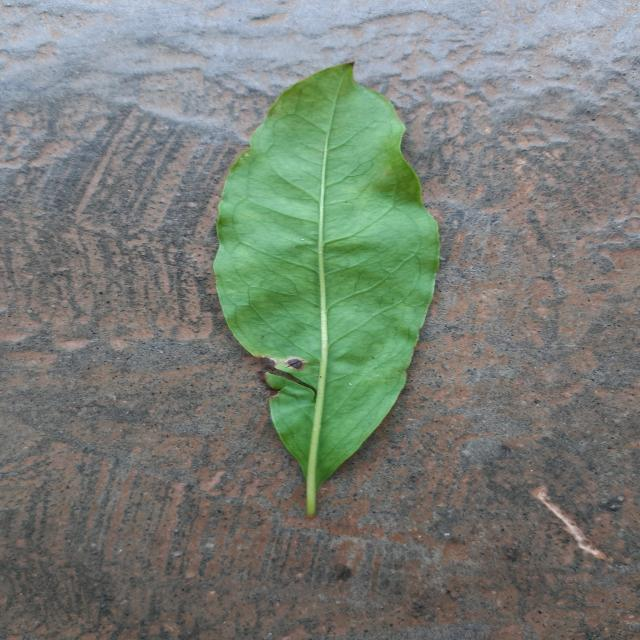pomgranate: (213, 64, 440, 515)
